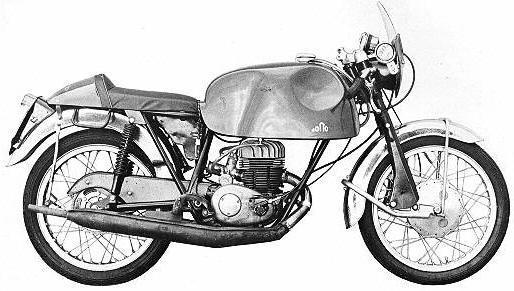motorcycle: (5, 1, 514, 291)
